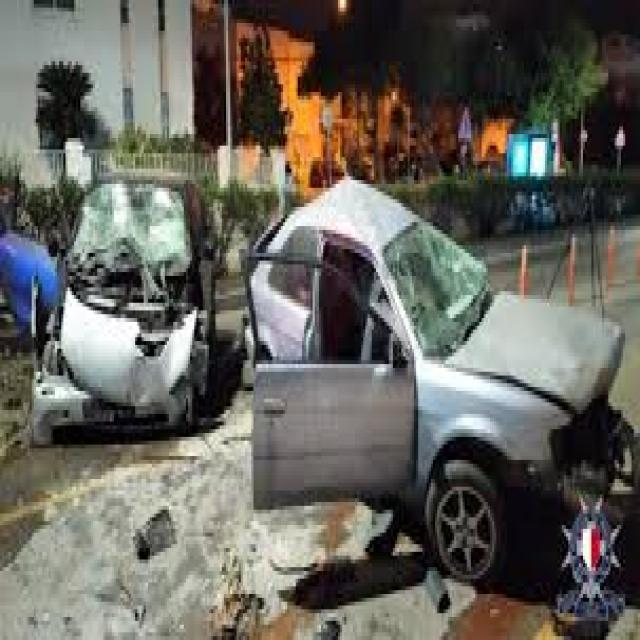accident: (19, 154, 564, 540), (234, 165, 607, 587)
